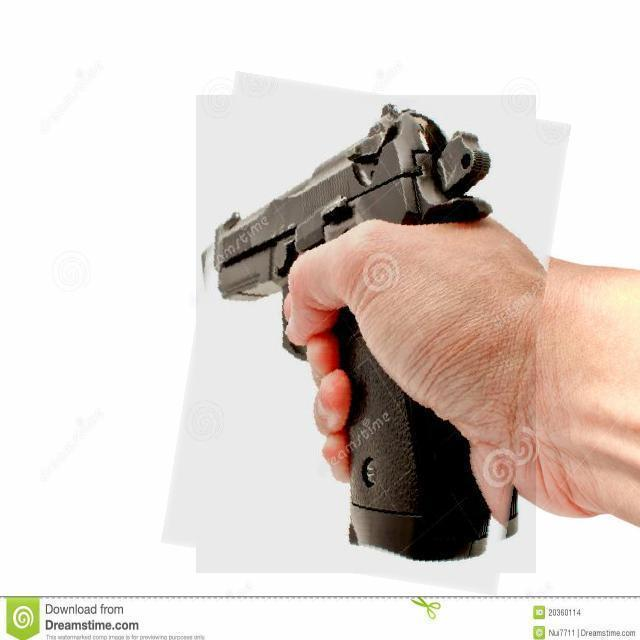Handgun: (179, 83, 554, 585)
